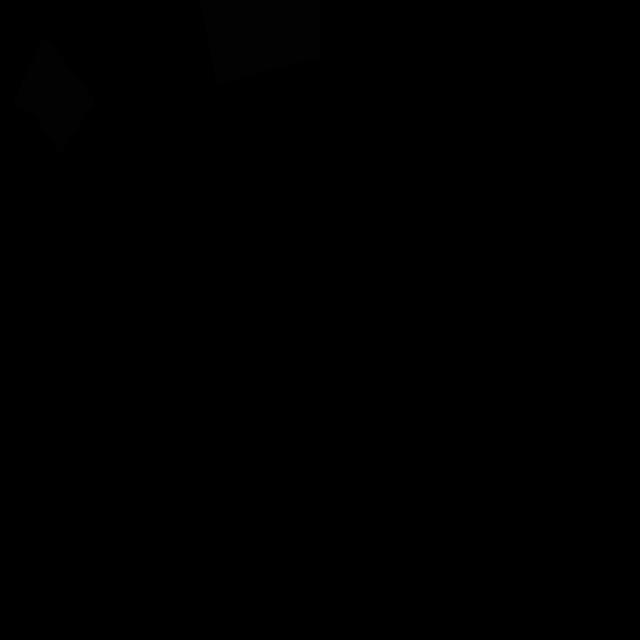cardboard: (200, 0, 320, 84), (14, 36, 96, 155)
